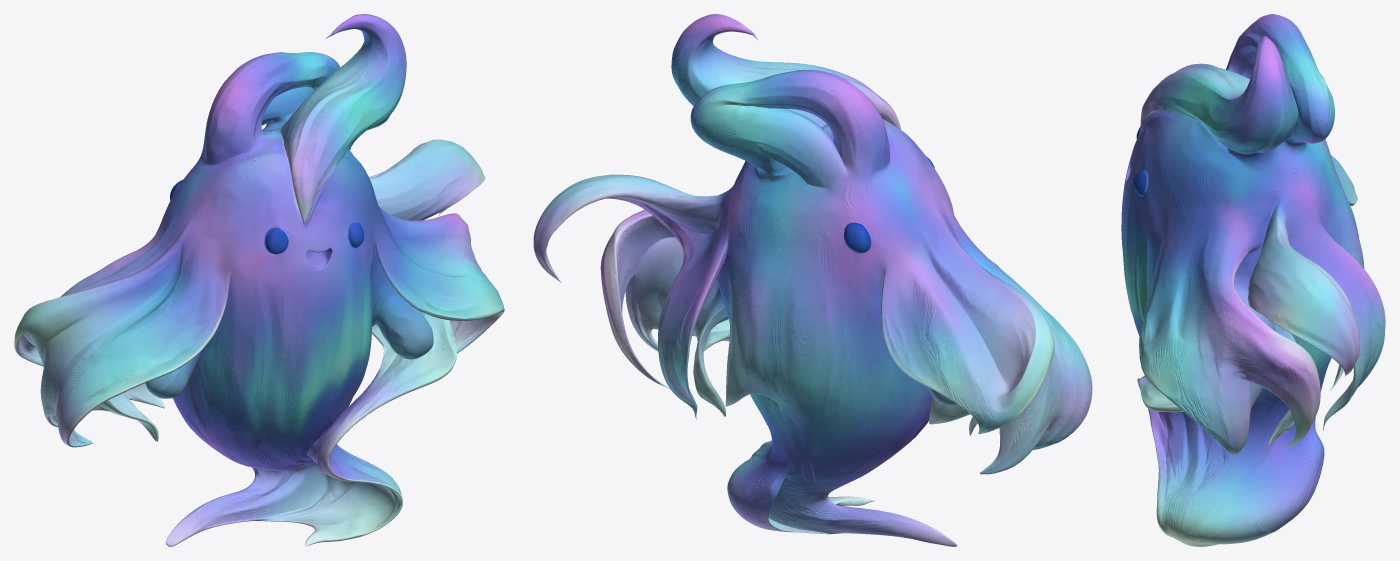
The model's file is aurora.glb.
3 views of the same model, side by side, from view 1: azimuth 30°, elevation 25°; view 2: azimuth 150°, elevation 25°; view 3: azimuth 270°, elevation 25° (orthographic). The views are drawn at different scales.
Visible parts, largest first — view 1: tripo_part_1, tripo_part_0, tripo_part_4, tripo_part_5, tripo_part_2, tripo_part_3; view 2: tripo_part_1, tripo_part_4, tripo_part_0, tripo_part_5, tripo_part_2, tripo_part_3; view 3: tripo_part_0, tripo_part_5, tripo_part_1, tripo_part_2, tripo_part_3, tripo_part_4.
Boxes of the visible parts, left/top/right/bottom form: tripo_part_1: left=145, top=189, right=433, bottom=471; tripo_part_0: left=165, top=139, right=504, bottom=546; tripo_part_4: left=14, top=212, right=231, bottom=447; tripo_part_5: left=203, top=14, right=406, bottom=224; tripo_part_2: left=168, top=149, right=374, bottom=253; tripo_part_3: left=194, top=118, right=300, bottom=215; tripo_part_1: left=716, top=158, right=956, bottom=497; tripo_part_4: left=881, top=199, right=1092, bottom=474; tripo_part_0: left=533, top=174, right=957, bottom=546; tripo_part_5: left=671, top=14, right=901, bottom=186; tripo_part_2: left=739, top=119, right=938, bottom=253; tripo_part_3: left=742, top=118, right=894, bottom=223; tripo_part_0: left=1137, top=190, right=1385, bottom=546; tripo_part_5: left=1140, top=14, right=1334, bottom=169; tripo_part_1: left=1121, top=150, right=1364, bottom=475; tripo_part_2: left=1133, top=110, right=1331, bottom=190; tripo_part_3: left=1293, top=139, right=1328, bottom=173; tripo_part_4: left=1294, top=155, right=1357, bottom=205.
Size of the model in its own units: 0.9999 by 0.9817 by 0.453.
7 materials, 7 textured.
